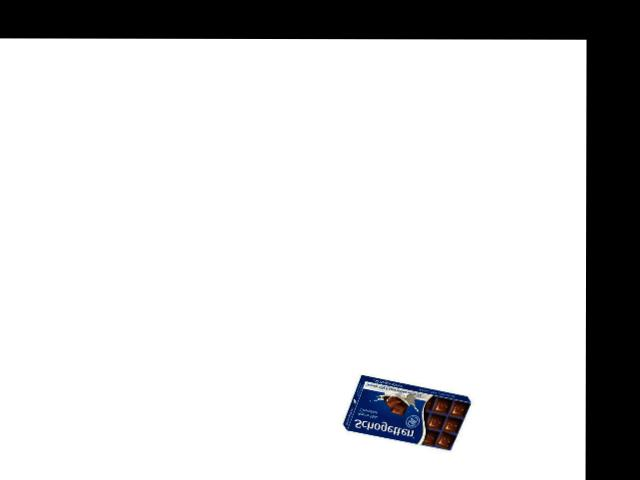chocolate: (340, 385, 472, 450)
